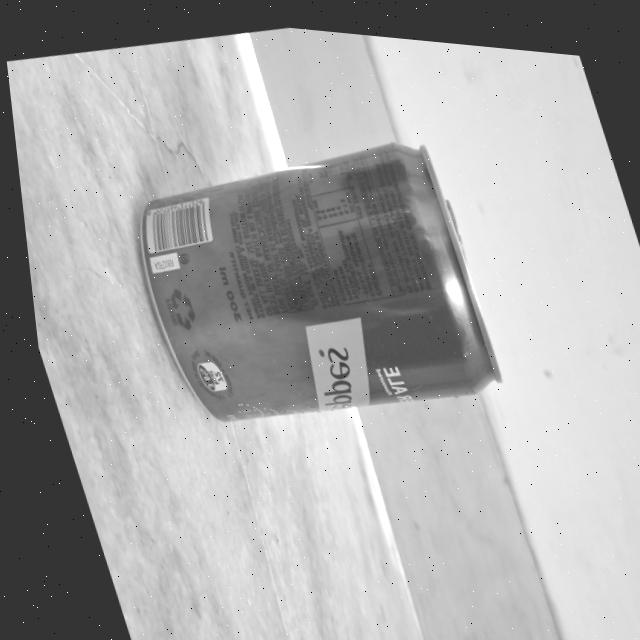Schweppes: (95, 105, 520, 468)
